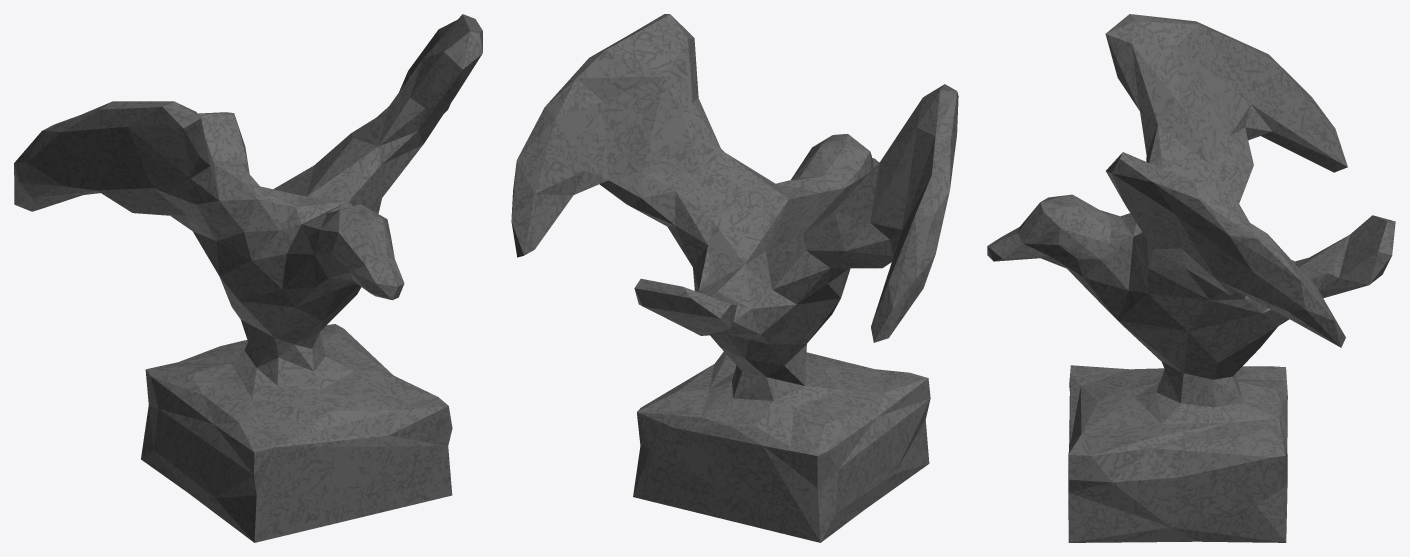
Rendered from Statue.fbx.
The picture shows the model from 3 angles, left to right: view 1: azimuth 30°, elevation 25°; view 2: azimuth 150°, elevation 25°; view 3: azimuth 270°, elevation 25°; orthographic projection. The views are drawn at different scales.
Visible parts, largest first — view 1: Cube.027; view 2: Cube.027; view 3: Cube.027.
Boxes of the visible parts, left/top/right/bottom form: Cube.027: left=14, top=14, right=482, bottom=542; Cube.027: left=511, top=14, right=958, bottom=542; Cube.027: left=987, top=14, right=1395, bottom=542.
Bounding box in the file's own units: 8.26 × 7.94 × 7.12.
